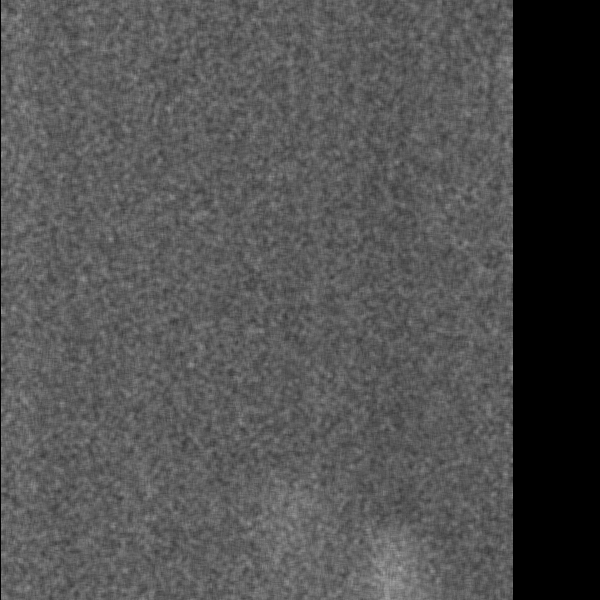spark: (370, 533, 408, 600), (279, 484, 306, 548)
